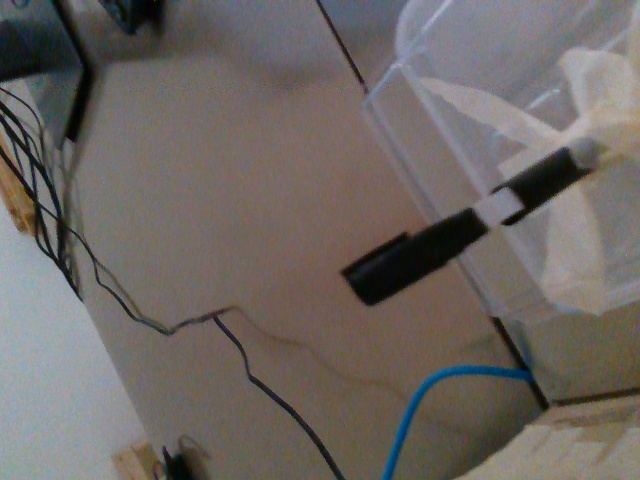test_strip: (338, 187, 523, 308)
